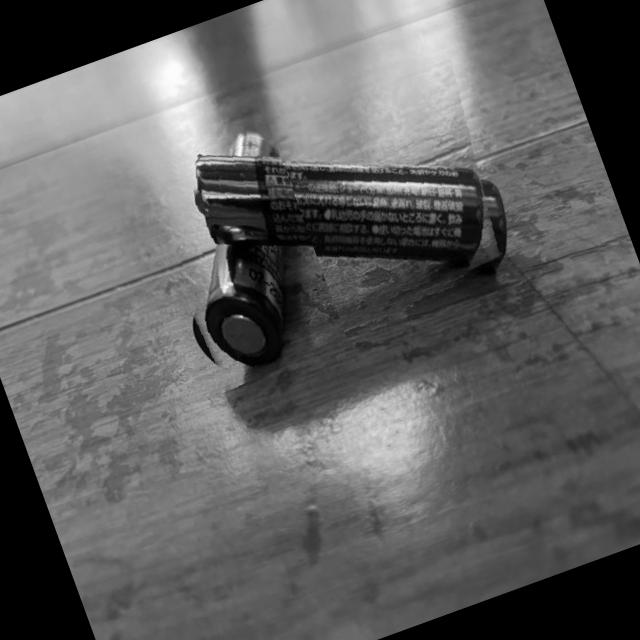Hazard: (169, 58, 528, 368), (128, 121, 350, 398)
